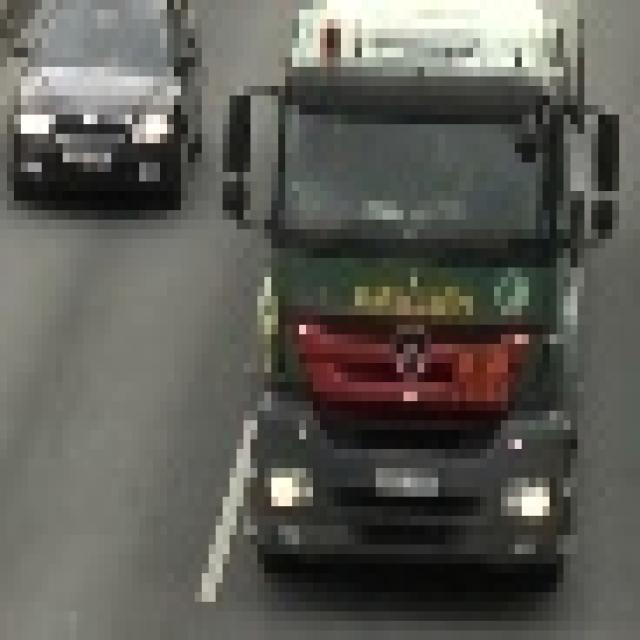truck: (217, 1, 620, 565)
